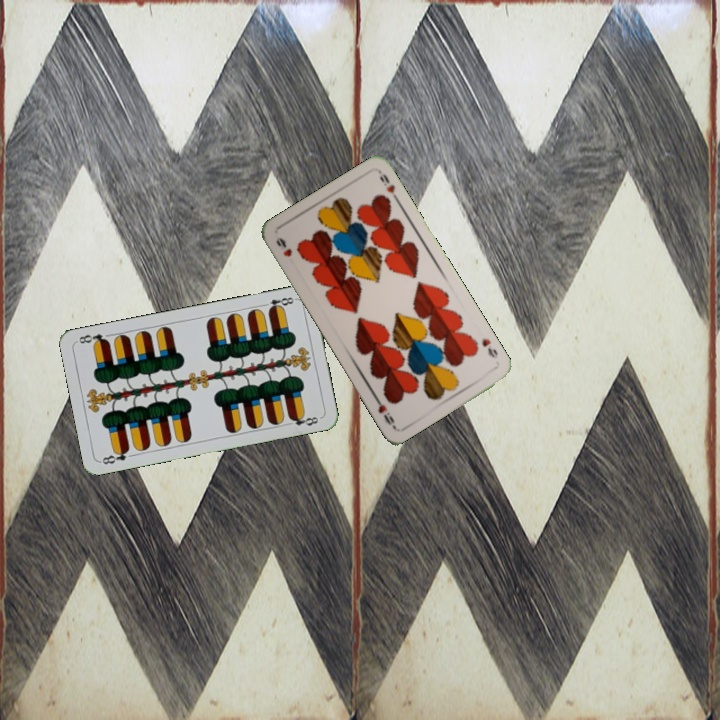E8: (259, 293, 299, 314), (97, 444, 132, 467)
H9: (478, 334, 501, 361), (272, 233, 294, 259)
